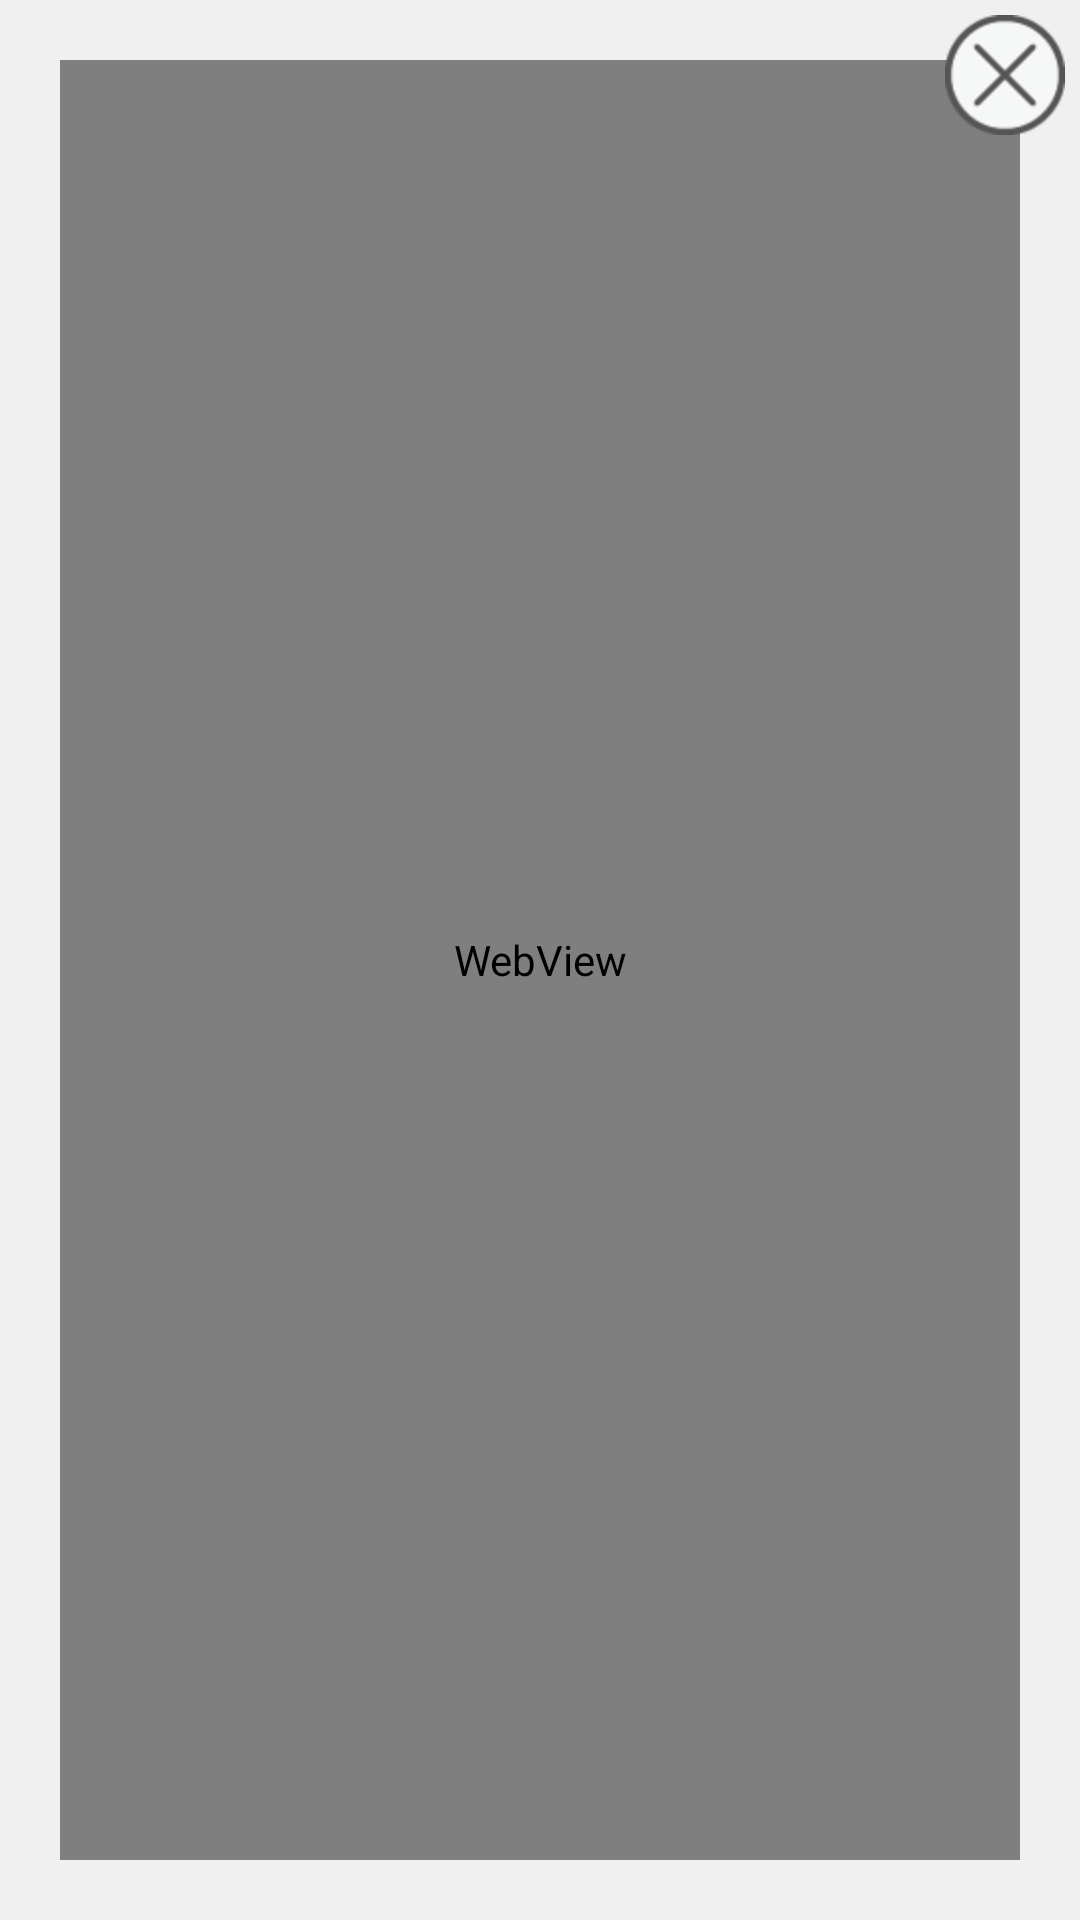

Icons on this 1080 x 1920 Android screen, each with the point to tap as [x,y]:
close: [1005,75]
